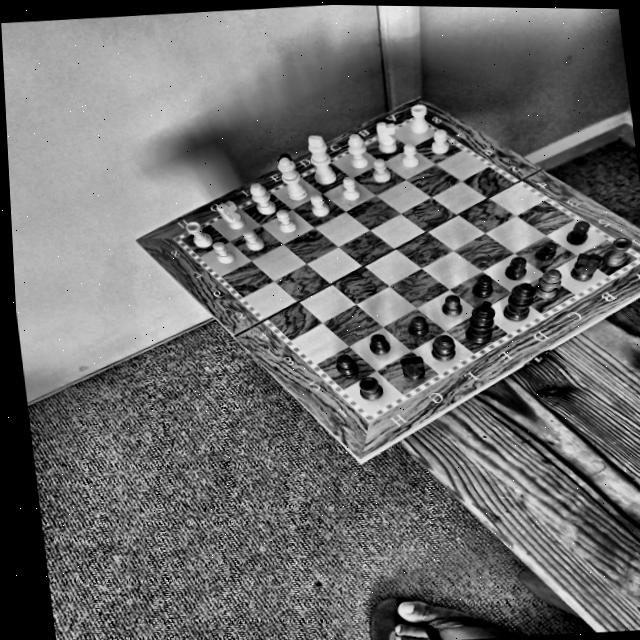black-bishop: (530, 267, 566, 299), (426, 332, 457, 362)
black-king: (459, 299, 500, 347)
black-knight: (563, 249, 607, 282), (400, 352, 427, 383)
black-pawn: (560, 218, 593, 245), (499, 254, 531, 280), (363, 329, 393, 356), (331, 349, 357, 377), (467, 272, 494, 298), (529, 238, 558, 261), (437, 291, 463, 316), (402, 314, 428, 337)
black-queen: (499, 279, 536, 323)
black-rook: (597, 235, 634, 269), (352, 370, 384, 403)
white-bishop: (245, 179, 277, 216), (343, 133, 368, 166)
white-king: (304, 131, 338, 184)
white-knight: (213, 198, 245, 232), (371, 118, 398, 154)
white-pawn: (207, 236, 237, 266), (270, 207, 297, 234), (425, 129, 451, 155), (239, 226, 264, 253), (306, 192, 331, 218), (338, 174, 362, 201), (398, 141, 418, 168), (368, 157, 388, 181)
white-queen: (273, 154, 308, 201)
white-rook: (182, 218, 214, 250), (404, 102, 430, 132)
